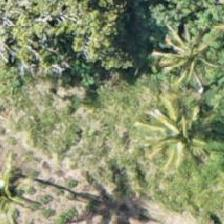coconut_tree: (146, 12, 223, 102), (151, 101, 223, 191), (0, 147, 48, 223)
